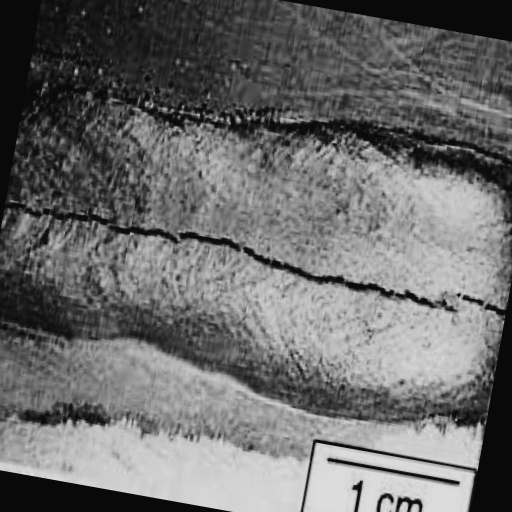crack: (1, 191, 512, 329)
